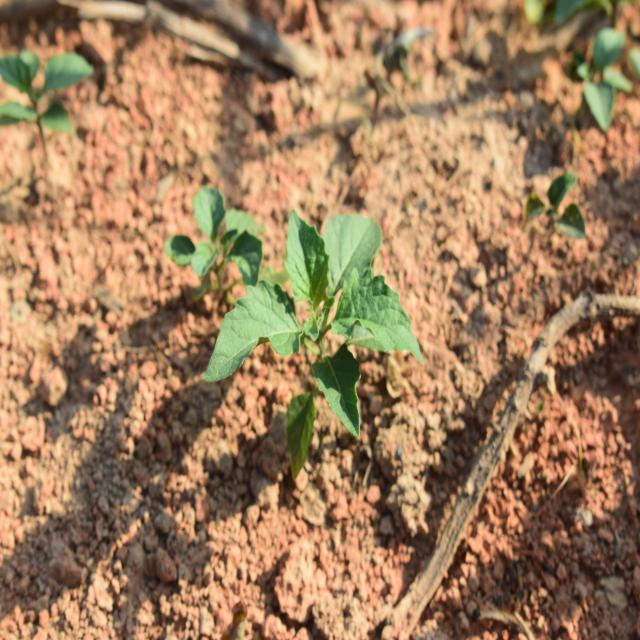Black_nightshade: (225, 207, 412, 437)
